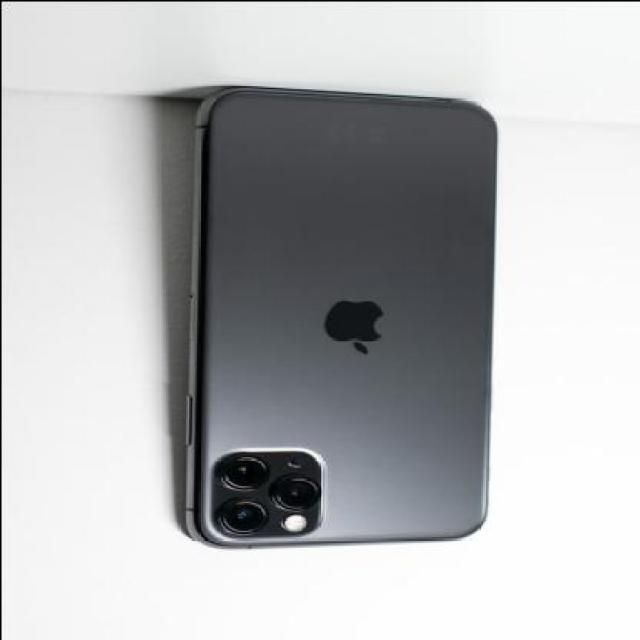phone: (183, 96, 494, 550)
